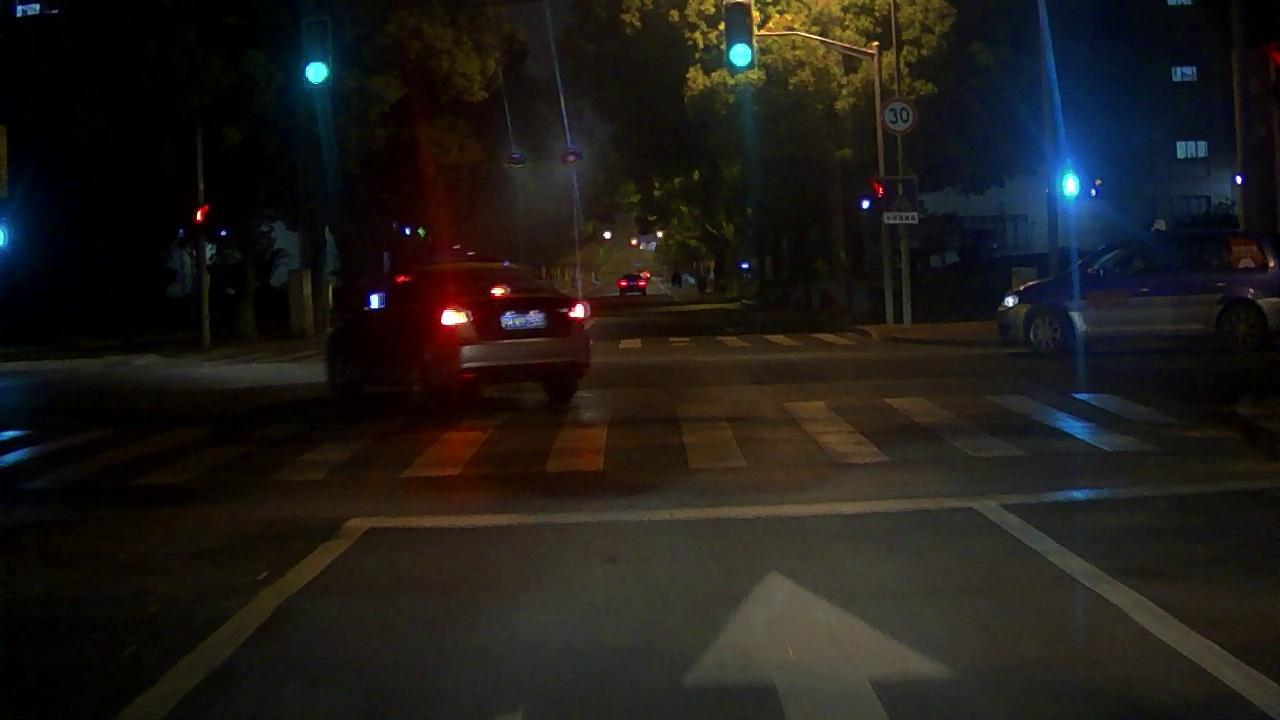traffic_light: (304, 16, 330, 86), (727, 2, 753, 72)
